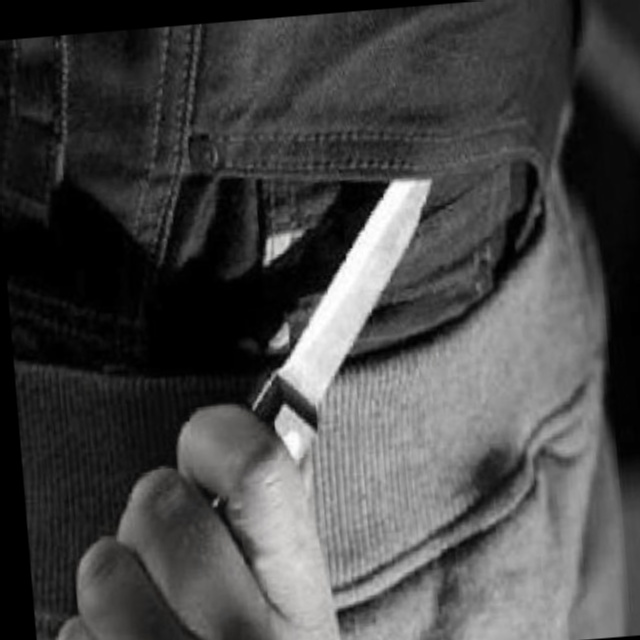Sharp-Object: (191, 178, 460, 511)
